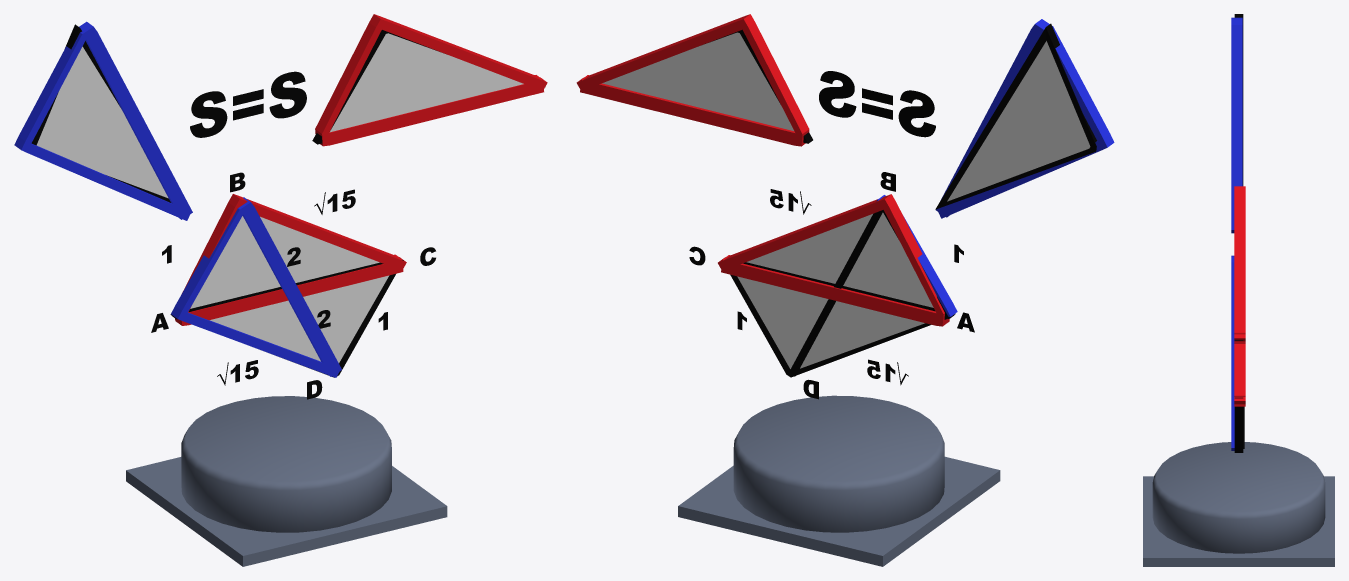
The picture shows the model from 3 angles, left to right: view 1: azimuth 30°, elevation 25°; view 2: azimuth 150°, elevation 25°; view 3: azimuth 270°, elevation 25°; orthographic projection. The views are drawn at different scales.
Parts seen in each view (by area): view 1: Cylinder, Cube, Cube.006, Cube.005, Cube.001, Cube.010, Cube.009, Cube.004, Cube.007, Cube.008, Text.011; view 2: Cylinder, Cube.006, Cube, Cube.005, Cube.004, Cube.001, Cube.010, Cube.008, Cube.009, Text.011, Cube.007, Cube.002 (+1 smaller); view 3: Cylinder, Cube, Cube.009, Cube.010, Cube.007, Cube.008, Cube.004, Cube.006.
Part boxes in pixels (bbox=[...]): Cylinder: bbox=[181, 396, 391, 532]; Cube: bbox=[126, 457, 447, 566]; Cube.006: bbox=[31, 24, 170, 202]; Cube.005: bbox=[312, 30, 523, 144]; Cube.001: bbox=[172, 216, 383, 319]; Cube.010: bbox=[315, 14, 547, 146]; Cube.009: bbox=[14, 21, 192, 220]; Cube.004: bbox=[170, 260, 403, 377]; Cube.007: bbox=[171, 197, 341, 377]; Cube.008: bbox=[175, 194, 406, 325]; Text.011: bbox=[190, 71, 306, 137]; Cylinder: bbox=[733, 395, 944, 532]; Cube.006: bbox=[935, 23, 1096, 209]; Cube: bbox=[678, 456, 1000, 566]; Cube.005: bbox=[602, 29, 812, 143]; Cube.004: bbox=[730, 274, 955, 377]; Cube.001: bbox=[743, 211, 954, 318]; Cube.010: bbox=[576, 14, 809, 146]; Cube.008: bbox=[718, 194, 949, 326]; Cube.009: bbox=[936, 19, 1114, 218]; Text.011: bbox=[819, 71, 935, 137]; Cube.007: bbox=[876, 195, 957, 316]; Cube.002: bbox=[834, 210, 883, 288]; Cylinder: bbox=[1152, 442, 1325, 553]; Cube: bbox=[1143, 476, 1334, 566]; Cube.009: bbox=[1231, 17, 1242, 233]; Cube.010: bbox=[1234, 186, 1245, 343]; Cube.007: bbox=[1231, 255, 1234, 450]; Cube.008: bbox=[1234, 344, 1245, 406]; Cube.004: bbox=[1234, 397, 1243, 452]; Cube.006: bbox=[1234, 14, 1243, 185].
Size of the model in its own units: 23.66 by 22.43 by 9.09.
